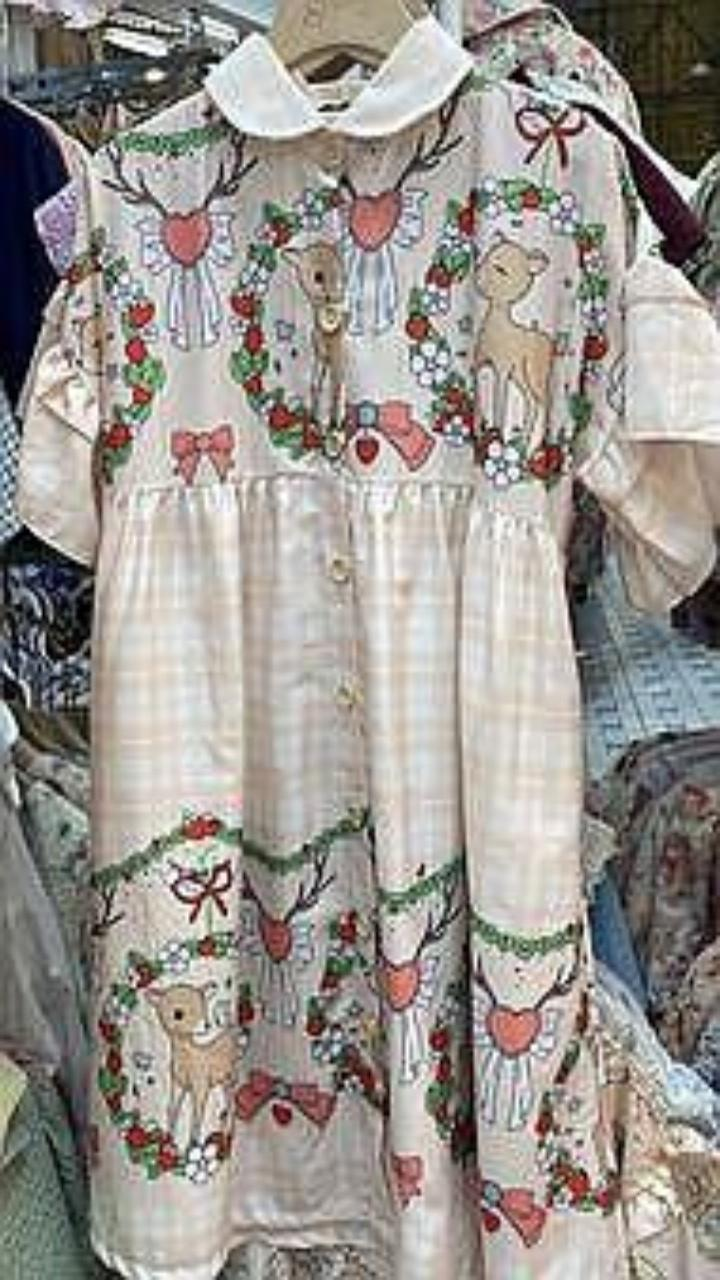Dresses: (20, 19, 719, 1279)
